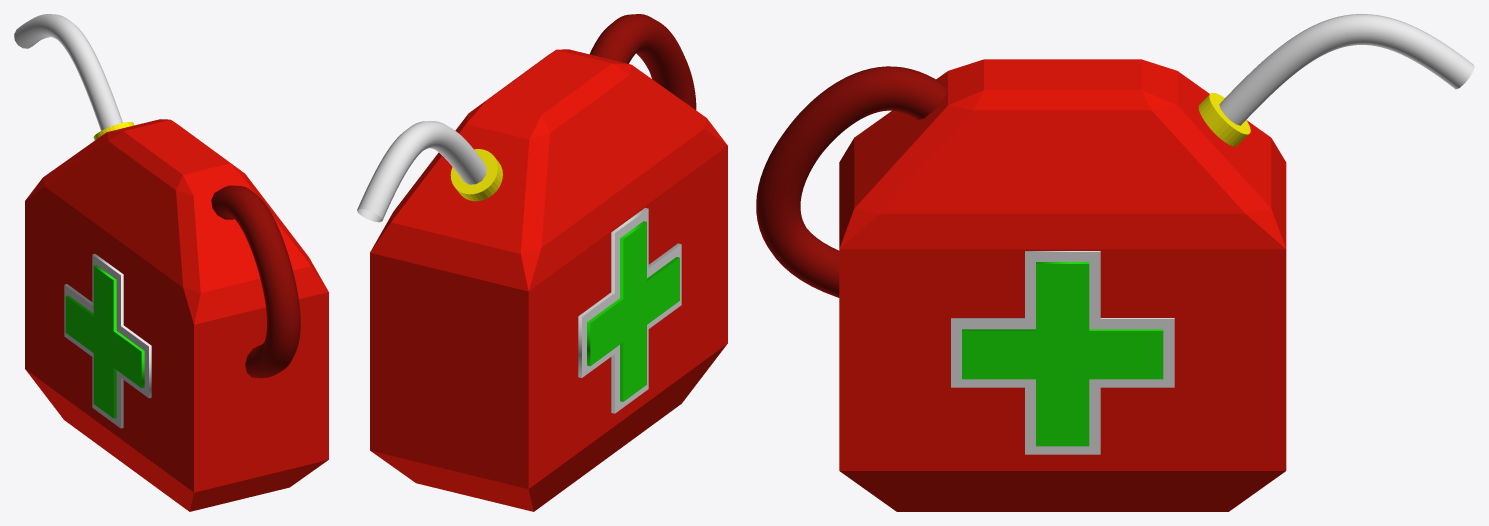
Rendered from oil.fbx.
The picture shows the model from 3 angles, left to right: view 1: azimuth 30°, elevation 25°; view 2: azimuth 150°, elevation 25°; view 3: azimuth 270°, elevation 25°; orthographic projection. The views are drawn at different scales.
Visible parts, largest first — view 1: 立方体, NURBSパス, テキスト, NURBSパス.001, テキスト.001; view 2: 立方体, テキスト, NURBSパス.001, NURBSパス, テキスト.001, 円柱; view 3: 立方体, テキスト, NURBSパス, テキスト.001, NURBSパス.001, 円柱.
Boxes of the visible parts, bbox=[...] form: 立方体: bbox=[25, 119, 328, 511]; NURBSパス: bbox=[211, 185, 300, 378]; テキスト: bbox=[65, 265, 144, 418]; NURBSパス.001: bbox=[14, 14, 122, 130]; テキスト.001: bbox=[64, 254, 151, 428]; 立方体: bbox=[370, 49, 727, 511]; テキスト: bbox=[587, 221, 679, 401]; NURBSパス.001: bbox=[357, 121, 486, 222]; NURBSパス: bbox=[590, 14, 696, 109]; テキスト.001: bbox=[578, 207, 681, 413]; 円柱: bbox=[450, 149, 502, 201]; 立方体: bbox=[839, 59, 1286, 511]; テキスト: bbox=[962, 262, 1163, 446]; NURBSパス: bbox=[756, 66, 947, 297]; テキスト.001: bbox=[951, 251, 1174, 454]; NURBSパス.001: bbox=[1219, 14, 1474, 125]; 円柱: bbox=[1198, 92, 1250, 146].
Size of the model in its own units: 100 by 231 by 324.
